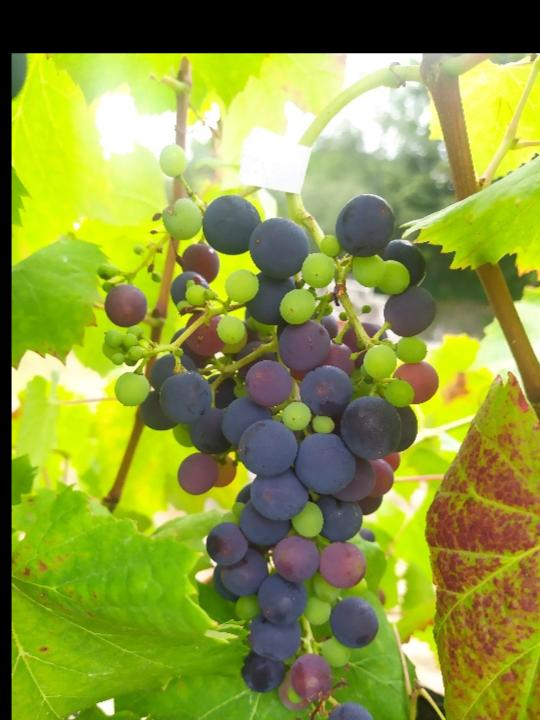grape: (101, 139, 442, 720)
